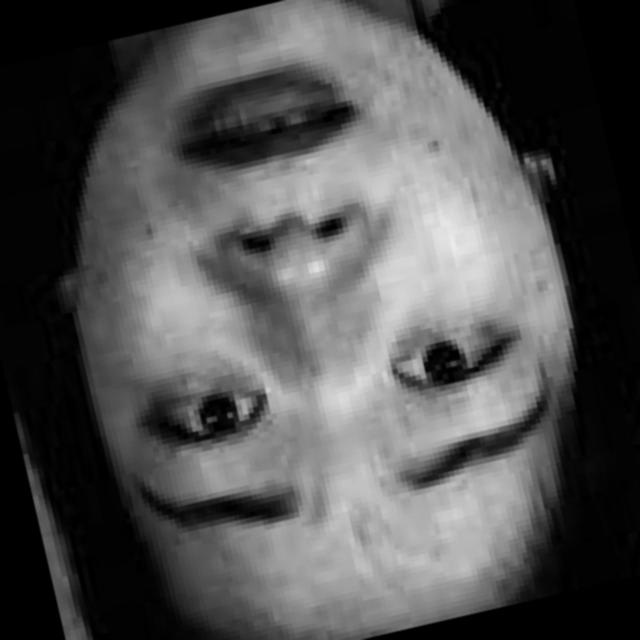fear: (20, 0, 617, 635)
